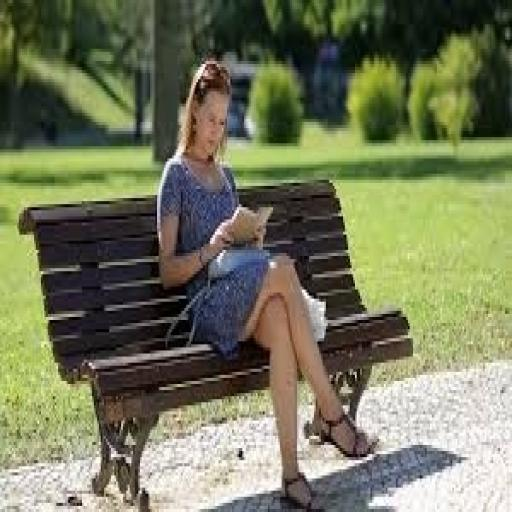sitting: (154, 55, 377, 506)
